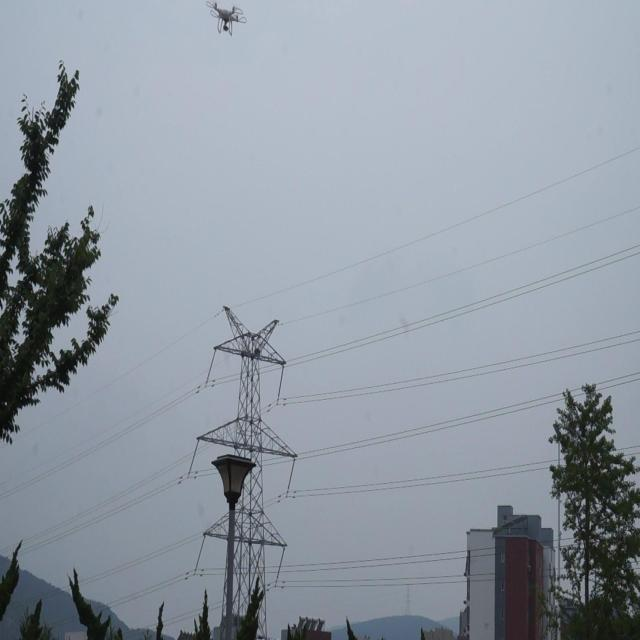drone: (204, 0, 248, 40)
